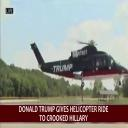helicopter: (25, 24, 128, 102)
